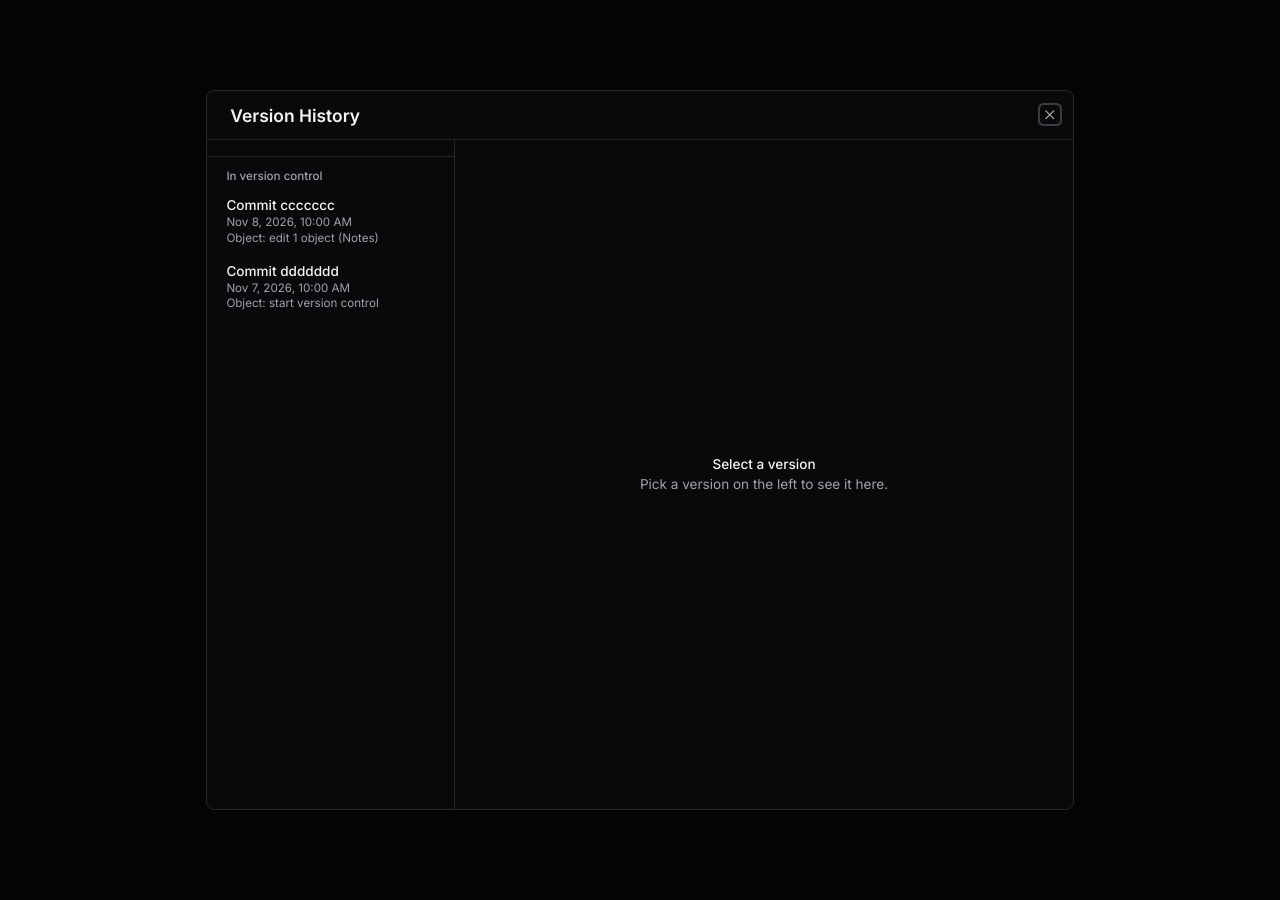
Test: VersionHistoryDialog: versions in version control › lists the commits, previews one and restores it as a new commit
Later steps or results of the test are not shown.
Click the option that starts with "Commit ddddddd" at (303, 287), box [226,263,379,310]
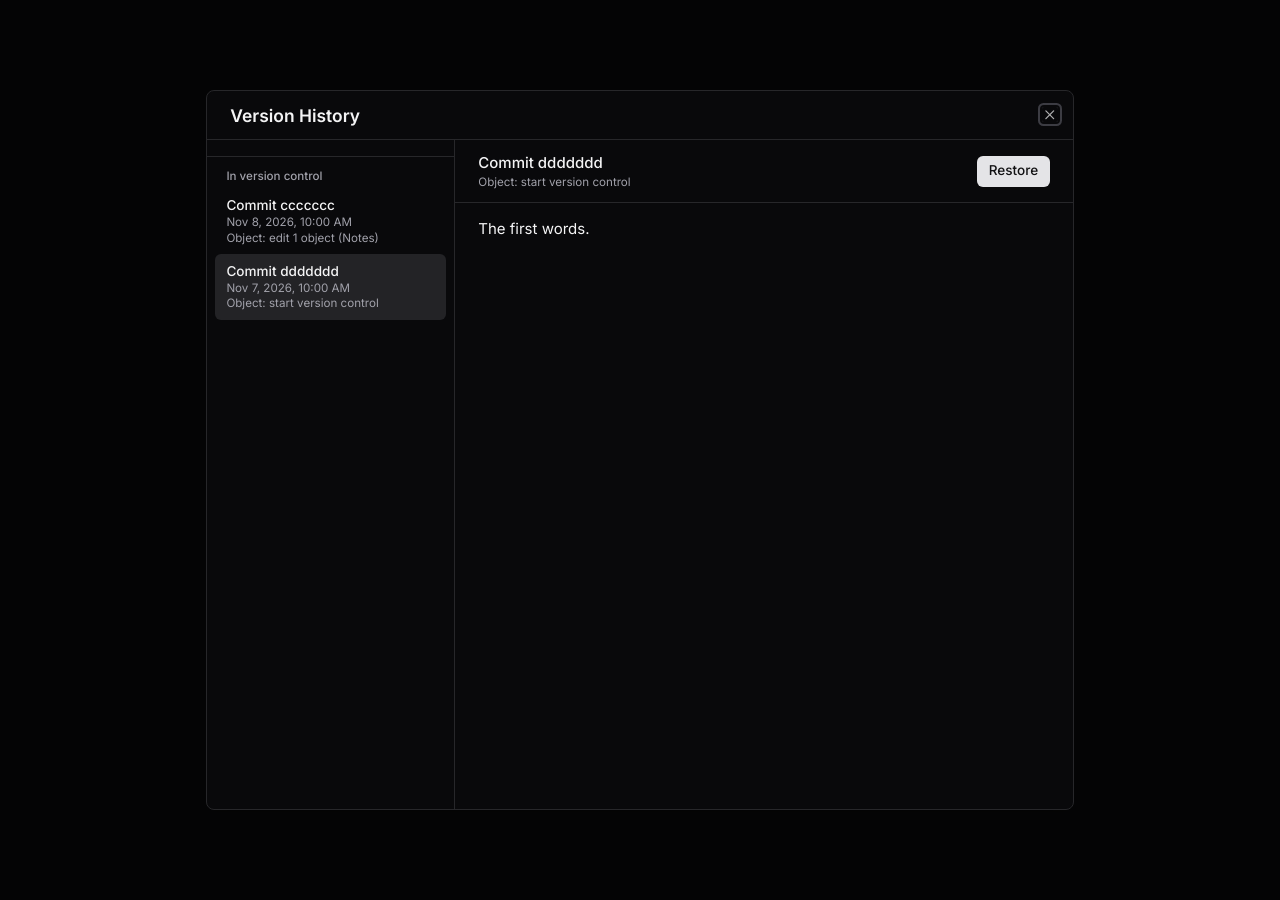
Check: the text "The first words." is shown, box [478,219,590,238]
Click the button "Restore" at (1013, 171), box [977,156,1050,187]
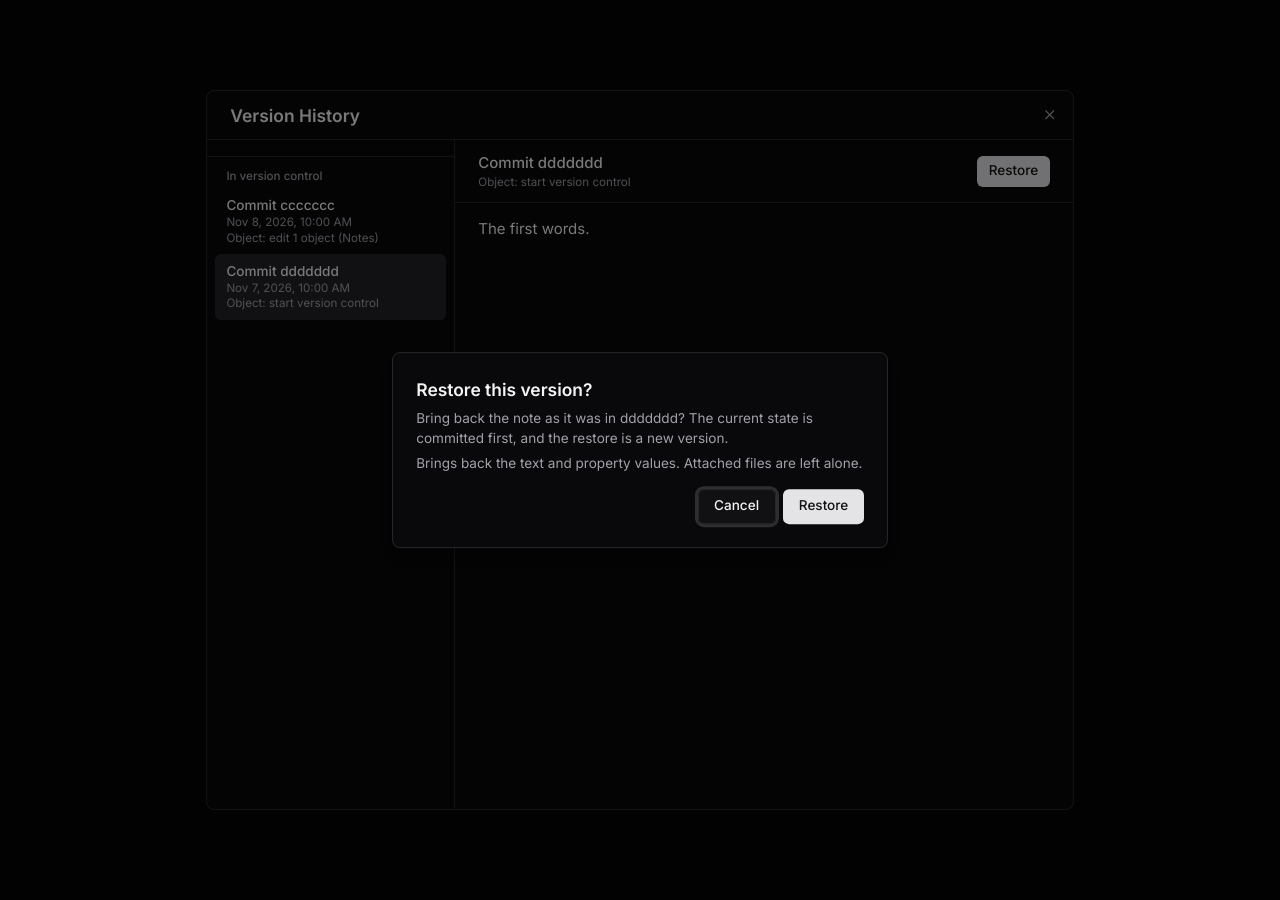
Check: the dialog that starts with "Restore this version?" shows "Bring back the note as it was in ddddddd?", box [416,410,813,446]
